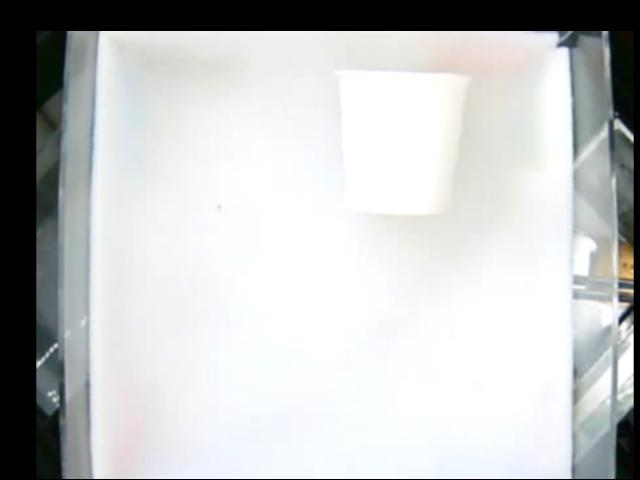Cup: (332, 68, 472, 217)
